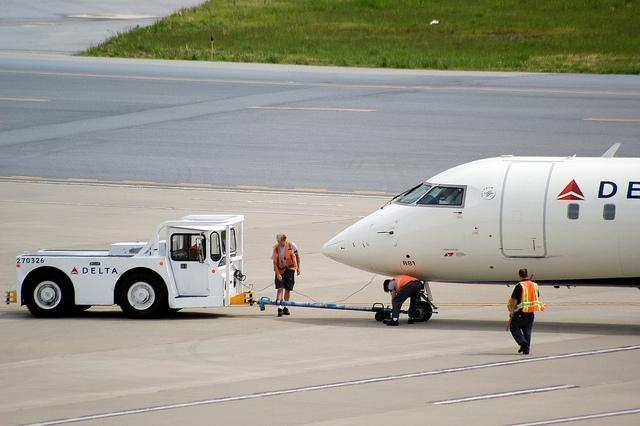truck: (0, 214, 253, 320)
